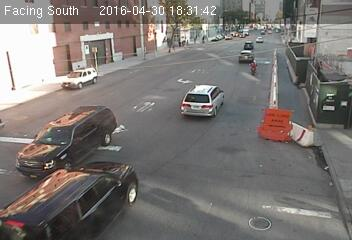neg: (309, 83, 338, 122), (316, 122, 343, 159), (71, 134, 95, 167), (8, 85, 31, 115), (63, 66, 74, 80), (164, 44, 170, 54)
